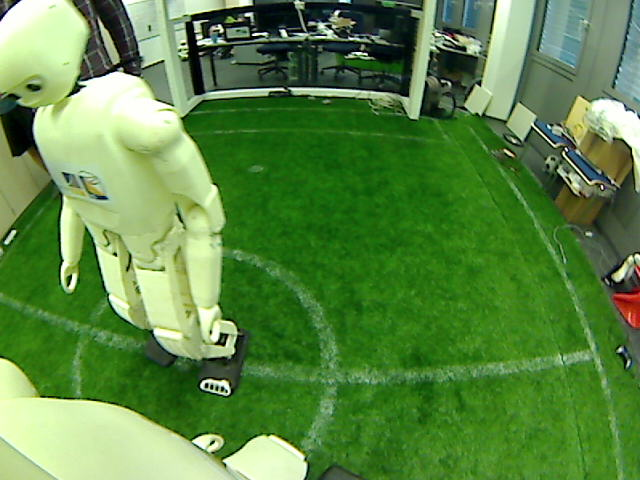ball: (538, 150, 560, 174)
goalpost: (403, 80, 422, 119), (172, 84, 189, 118)
robot: (176, 313, 242, 388)
